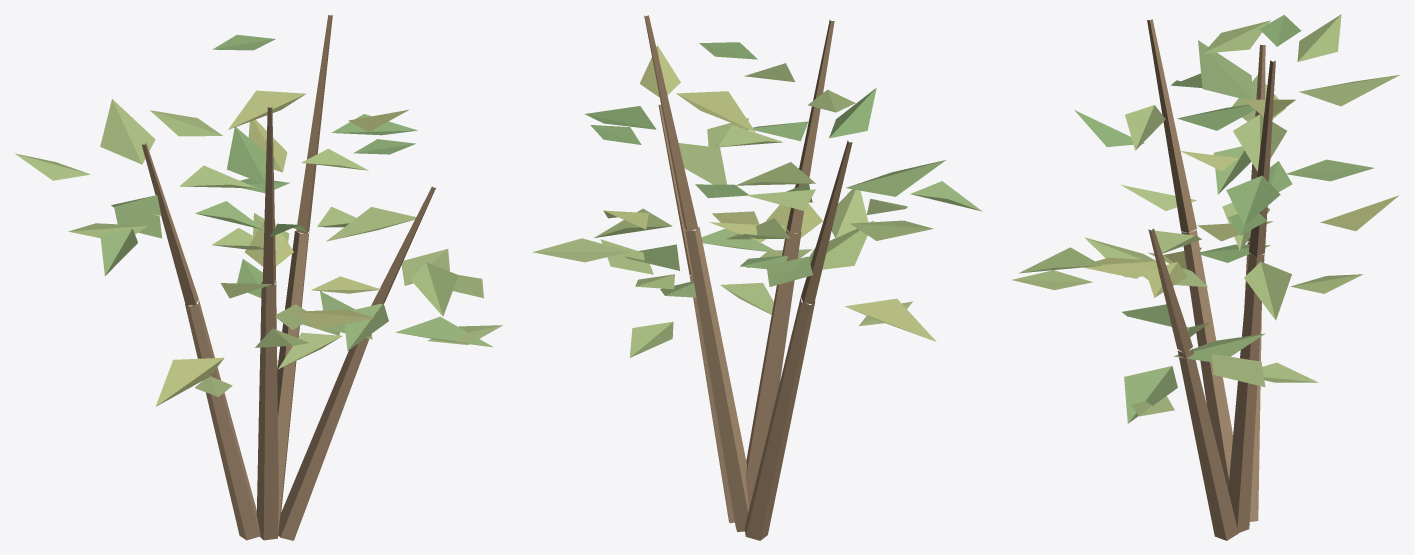
3 renders of one model, left to right at view 1: azimuth 30°, elevation 25°; view 2: azimuth 150°, elevation 25°; view 3: azimuth 270°, elevation 25°, orthographic. The views are drawn at different scales.
Parts seen in each view (by area): view 1: Body; view 2: Body; view 3: Body.
Boxes of the visible parts, <box> form: Body: <box>14,15,502,540</box>; Body: <box>532,15,982,540</box>; Body: <box>1012,14,1399,540</box>.
Size of the model in its own units: 3.71 by 4.38 by 3.03.
